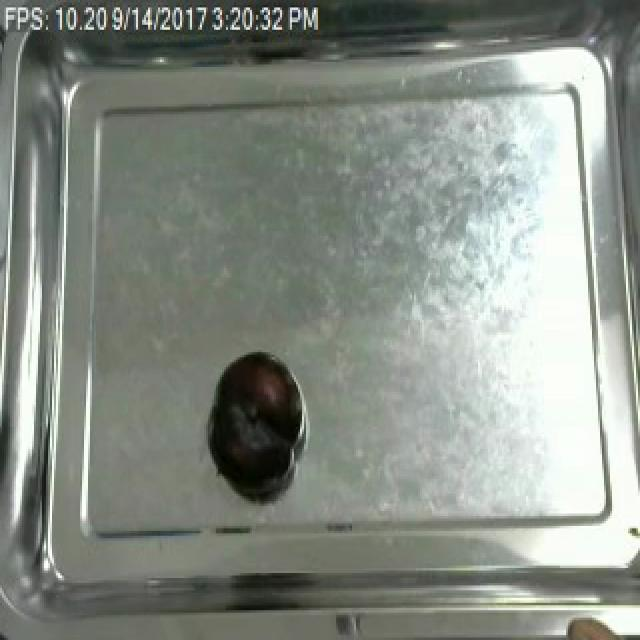Fruit: (208, 347, 300, 489), (556, 608, 640, 640)
